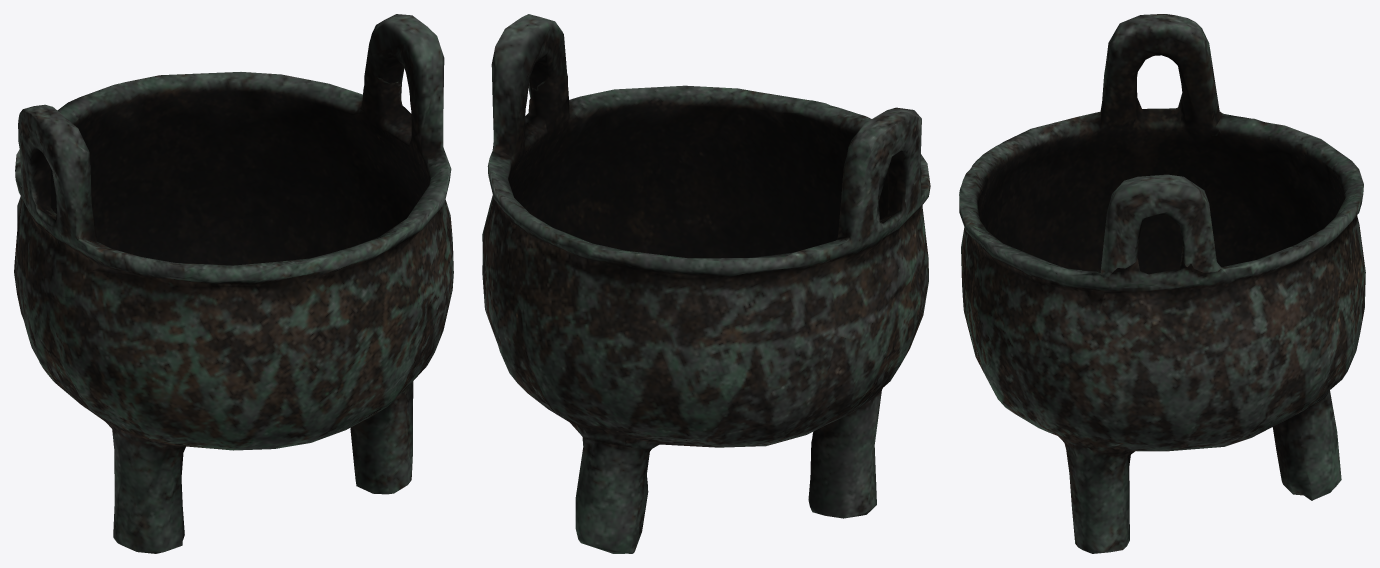
The model's file is Vessel 4.fbx.
3 renders of one model, left to right at view 1: azimuth 30°, elevation 25°; view 2: azimuth 150°, elevation 25°; view 3: azimuth 270°, elevation 25°, orthographic. The views are drawn at different scales.
Parts seen in each view (by area): view 1: Vessel_4; view 2: Vessel_4; view 3: Vessel_4.
Boxes of the visible parts, x1,y1,x2,y2 form: Vessel_4: (14, 14, 453, 553); Vessel_4: (482, 14, 930, 553); Vessel_4: (959, 14, 1365, 553).
Bounding box in the file's own units: 75.74 × 80 × 73.91.
1 material, 1 textured.
